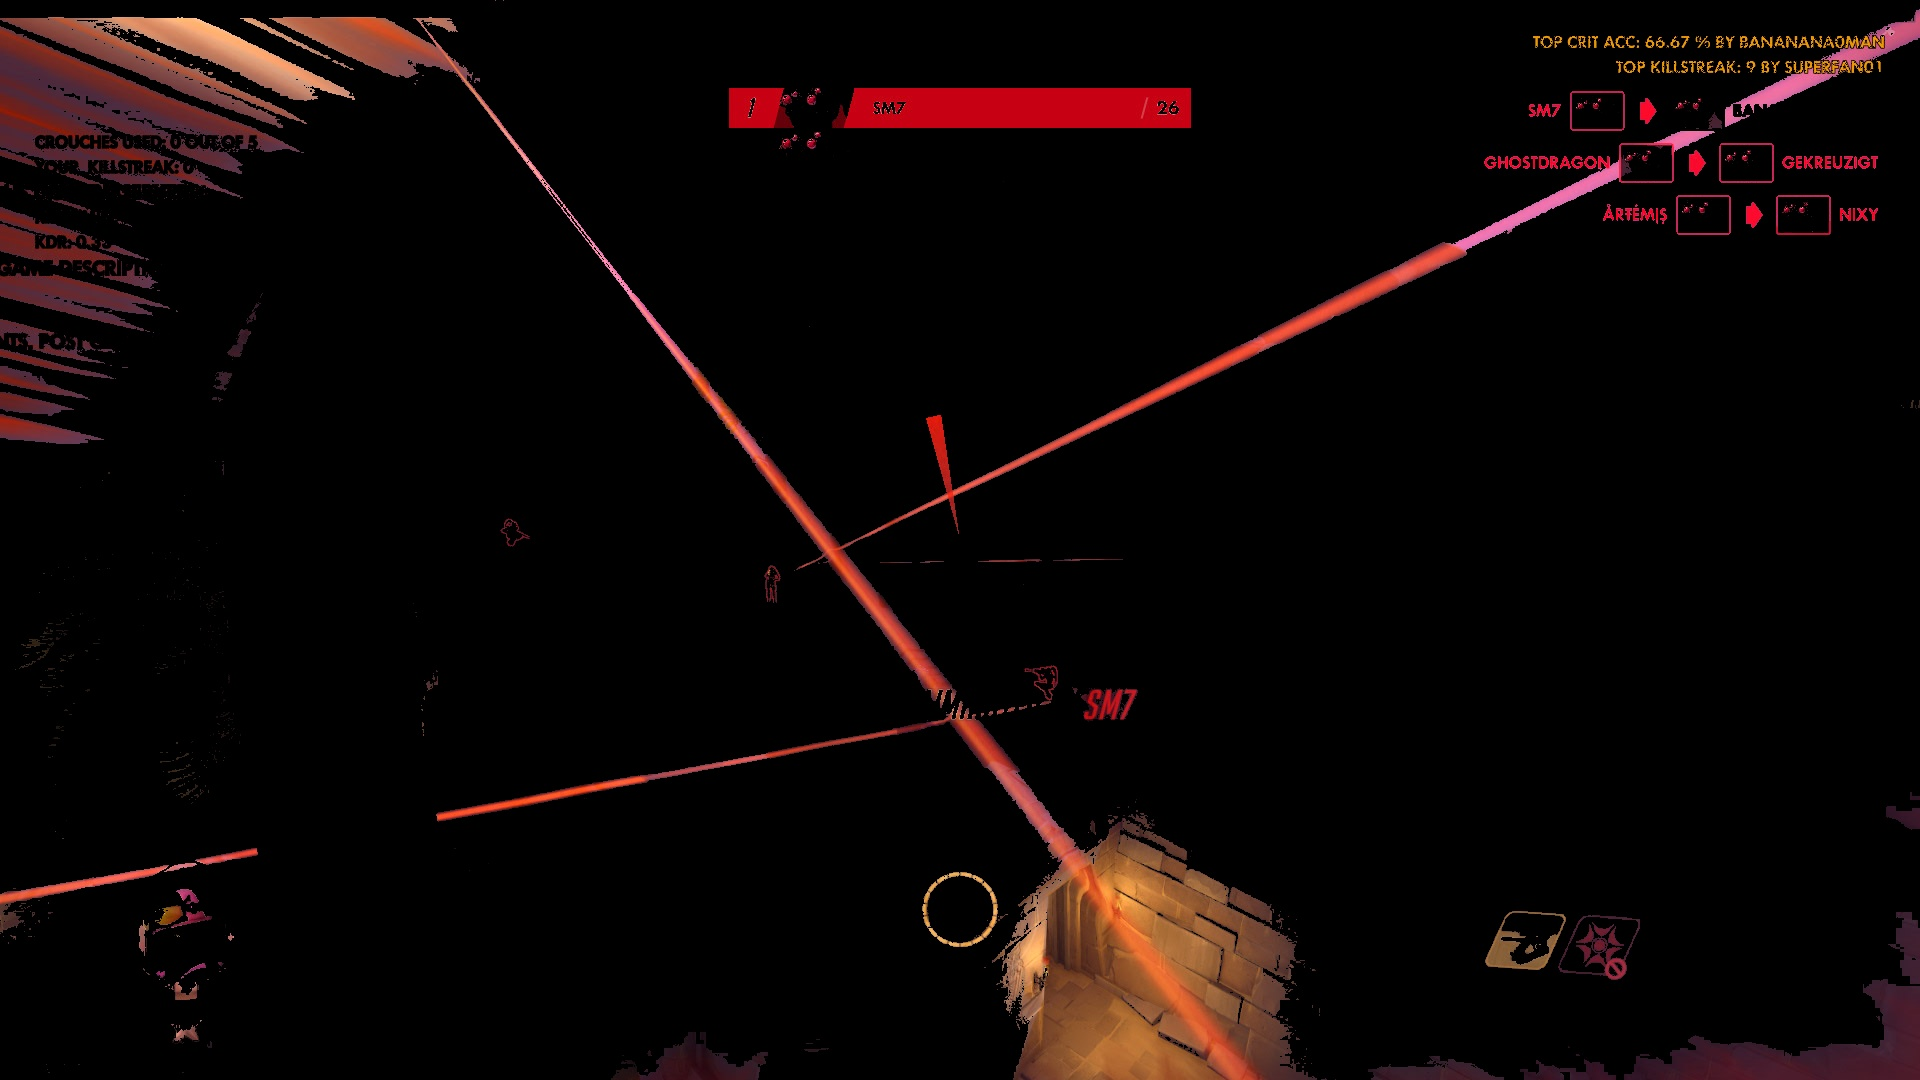widowmaker: (500, 518, 526, 549), (1035, 666, 1059, 699), (764, 564, 781, 608)
